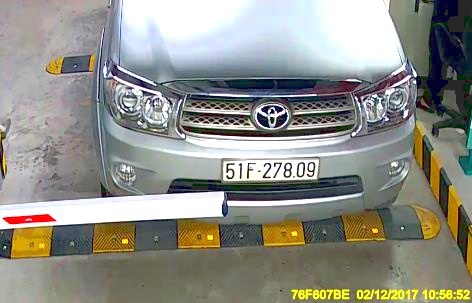plate: (221, 155, 319, 182)
